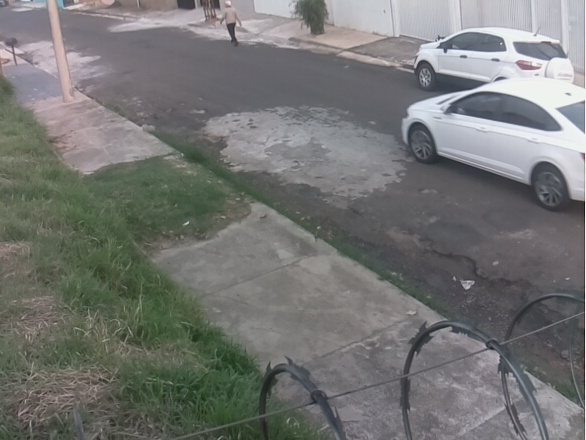person: (219, 1, 243, 48)
